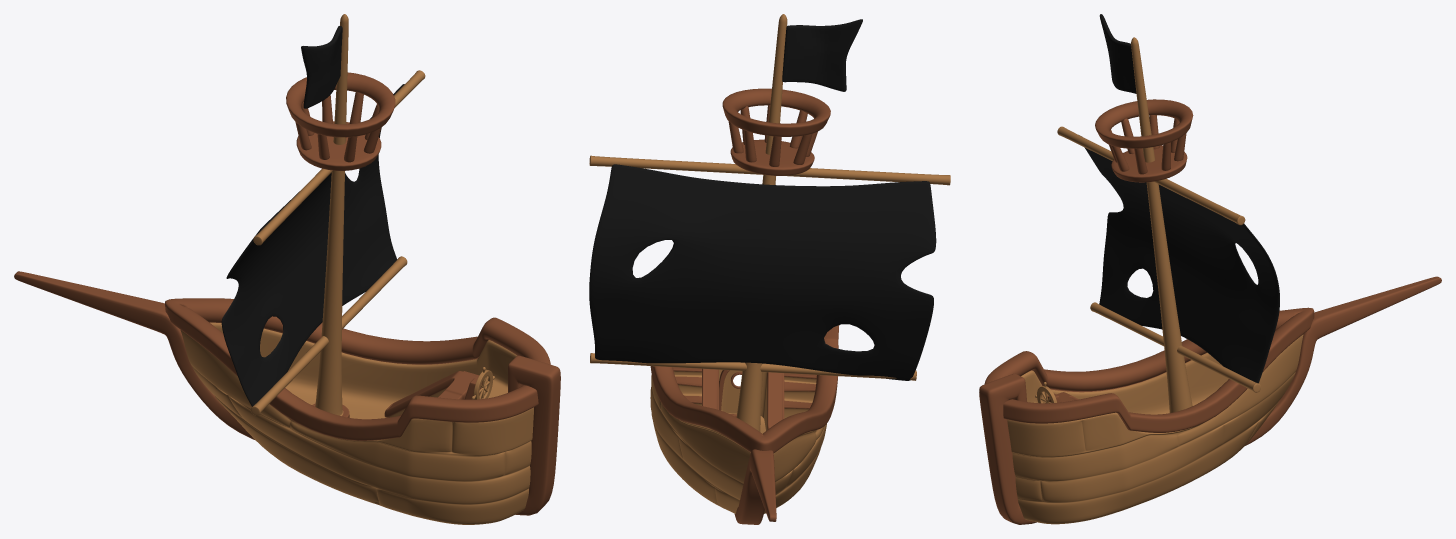
Rendered from ship.fbx.
3 views of the same model, side by side, from view 1: azimuth 30°, elevation 25°; view 2: azimuth 150°, elevation 25°; view 3: azimuth 270°, elevation 25° (orthographic). The views are drawn at different scales.
Parts seen in each view (by area): view 1: ship, Plane.003, Plane.002, mat, Circle.009, Plane.008, Circle.010, Circle.007, Circle.008, Plane; view 2: Plane.003, ship, Plane.008, Circle.009, Circle.008, mat, Plane.002, step, Plane, Circle.007, Circle.010, porte (+2 smaller); view 3: ship, Plane.003, Plane.002, mat, Circle.009, Circle.010, Circle.008, Plane.008, Circle.007.
Boxes of the visible parts, box(x1,y1,x2,y2) form: ship: box(165, 298, 550, 524); Plane.003: box(221, 84, 404, 406); Plane.002: box(14, 271, 560, 515); mat: box(312, 14, 349, 417); Circle.009: box(286, 72, 395, 137); Plane.008: box(301, 26, 342, 108); Circle.010: box(251, 256, 407, 415); Circle.007: box(296, 121, 381, 170); Circle.008: box(253, 70, 425, 245); Plane: box(384, 371, 477, 417); Plane.003: box(589, 164, 936, 380); ship: box(650, 325, 839, 513); Plane.008: box(782, 19, 862, 91); Circle.009: box(722, 88, 830, 136); Circle.008: box(589, 155, 950, 185); mat: box(736, 14, 787, 431); Plane.002: box(734, 449, 776, 524); step: box(673, 367, 816, 418); Plane: box(702, 368, 784, 430); Circle.007: box(730, 139, 814, 175); Circle.010: box(590, 353, 916, 380); porte: box(719, 370, 742, 417); ship: box(984, 307, 1314, 524); Plane.003: box(1079, 135, 1279, 383); Plane.002: box(979, 276, 1441, 524); mat: box(1131, 37, 1192, 412); Circle.009: box(1095, 99, 1193, 148); Circle.010: box(1090, 302, 1260, 392); Circle.008: box(1057, 126, 1245, 225); Plane.008: box(1099, 14, 1136, 93); Circle.007: box(1111, 145, 1187, 182).
Bounding box in the file's own units: 491 × 715 × 690.
